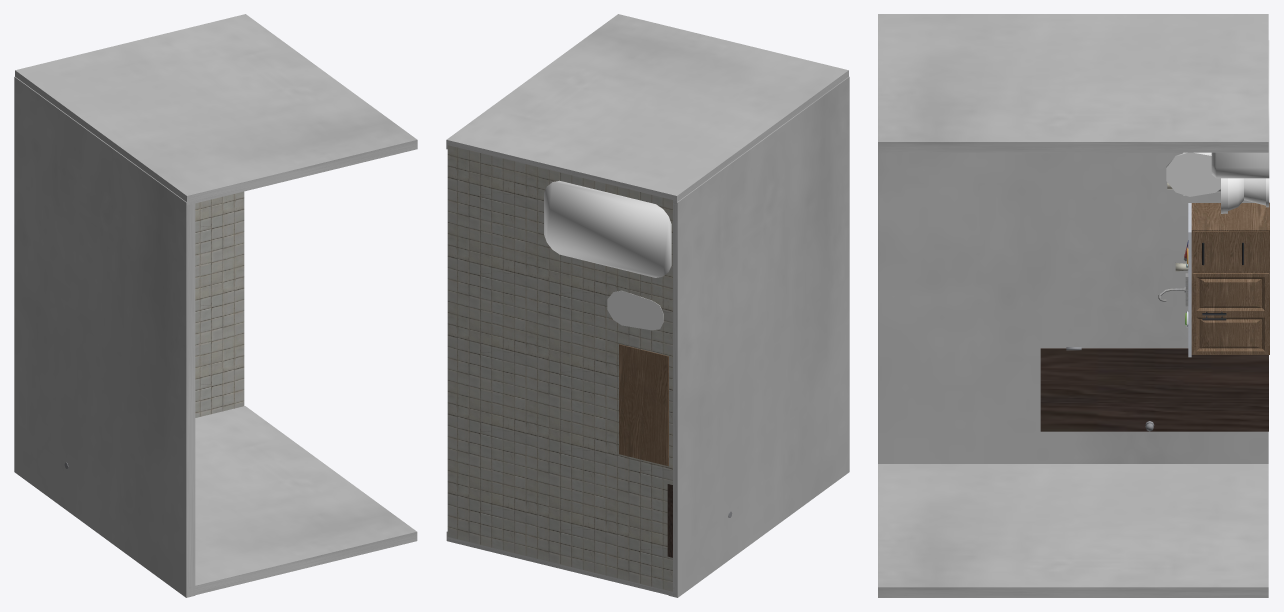
Rendered from bathroom.glb.
3 views of the same model, side by side, from view 1: azimuth 30°, elevation 25°; view 2: azimuth 150°, elevation 25°; view 3: azimuth 270°, elevation 25° (orthographic). The views are drawn at different scales.
Parts seen in each view (by area): view 1: Wall_02, Wall_03, Wall_01, Floor; view 2: Floor, Wall_02, Wall_03, Bathtub, Sink, Toilet, Wall_01; view 3: Wall_02, Wall_03, Wall_01, Door, Sink, Washbasin_door_03, Washbasin_door_02, Toilet_Tapa_01, Bathtub, Washbasin_drawer_05, Washbasin_drawer_04, Toilet.
Part boxes in pixels (<box>): Wall_02: <box>14,76,195,597</box>; Wall_03: <box>15,14,417,205</box>; Wall_01: <box>188,406,417,596</box>; Floor: <box>195,191,244,417</box>; Floor: <box>447,145,672,591</box>; Wall_02: <box>668,76,849,597</box>; Wall_03: <box>446,14,848,205</box>; Bathtub: <box>544,180,671,277</box>; Sink: <box>619,344,668,466</box>; Toilet: <box>607,290,663,330</box>; Wall_01: <box>446,531,675,596</box>; Wall_02: <box>878,152,1268,463</box>; Wall_03: <box>878,14,1268,152</box>; Wall_01: <box>878,464,1268,597</box>; Door: <box>1040,348,1268,431</box>; Sink: <box>1158,202,1269,357</box>; Washbasin_door_03: <box>1192,273,1268,315</box>; Washbasin_door_02: <box>1192,314,1268,354</box>; Toilet_Tapa_01: <box>1166,152,1220,196</box>; Bathtub: <box>1211,40,1269,178</box>; Washbasin_drawer_05: <box>1229,231,1268,271</box>; Washbasin_drawer_04: <box>1193,231,1228,271</box>; Toilet: <box>1183,152,1269,213</box>.
Bounding box in the file's own units: 2.66 × 4.42 × 3.43.
Materials: 16 (15 with a texture image).
